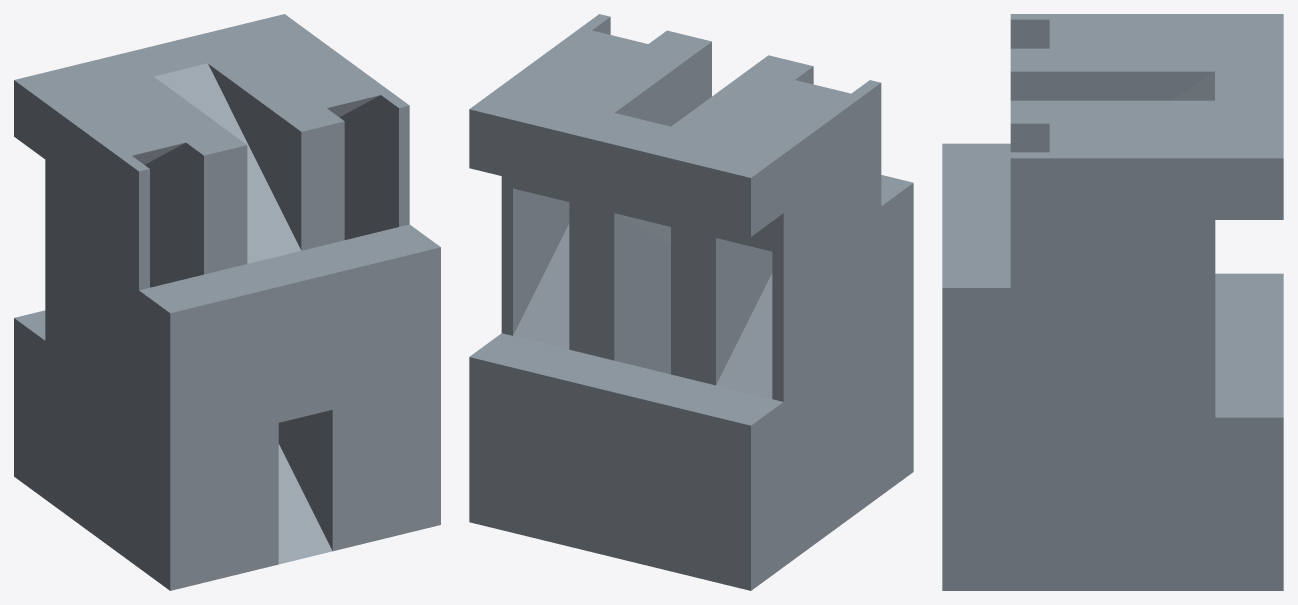
The model's file is teststairtower.dae.
3 views of the same model, side by side, from view 1: azimuth 30°, elevation 25°; view 2: azimuth 150°, elevation 25°; view 3: azimuth 270°, elevation 25° (orthographic). The views are drawn at different scales.
Visible parts, largest first — view 1: 5c34ff3cf72c2715eaad903f; view 2: 5c34ff3cf72c2715eaad903f; view 3: 5c34ff3cf72c2715eaad903f.
Boxes of the visible parts, x1=… form: 5c34ff3cf72c2715eaad903f: x1=14, y1=14, x2=440, y2=590; 5c34ff3cf72c2715eaad903f: x1=469, y1=14, x2=913, y2=590; 5c34ff3cf72c2715eaad903f: x1=942, y1=14, x2=1283, y2=590.
Bounding box in the file's own units: 0.5 × 0.5 × 0.7.
